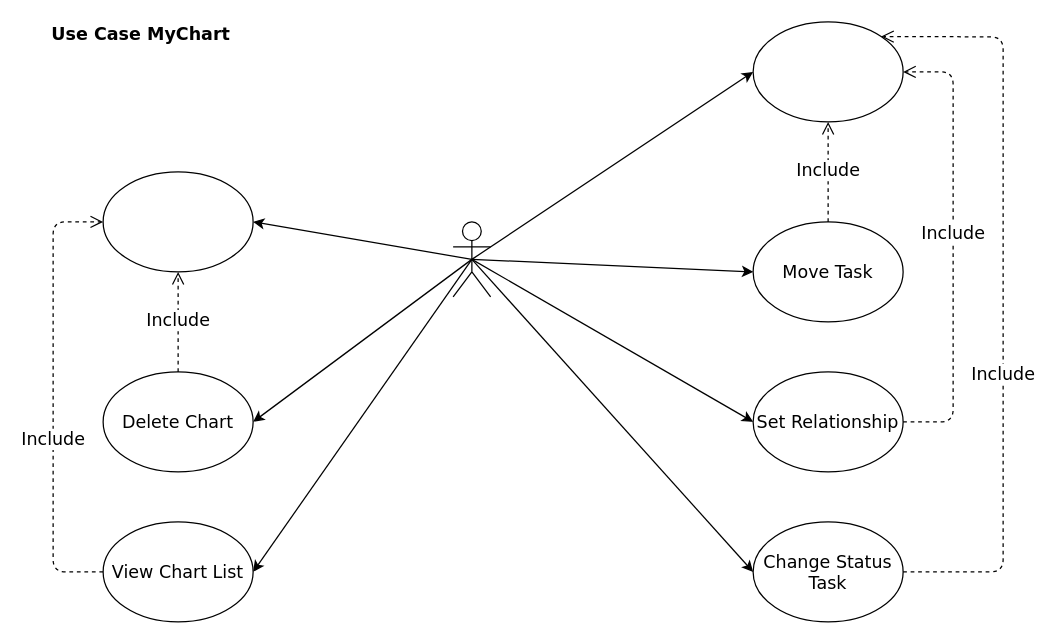
Some shapes in this 1056 by 644 pixel diagram are drawn without their labels. The shapes that lost their labels are listed below. From the top down, each one's centre as x and y in pixels, then its label:
point 827,71: Add Task
point 177,221: Save Chart
point 471,259: User
